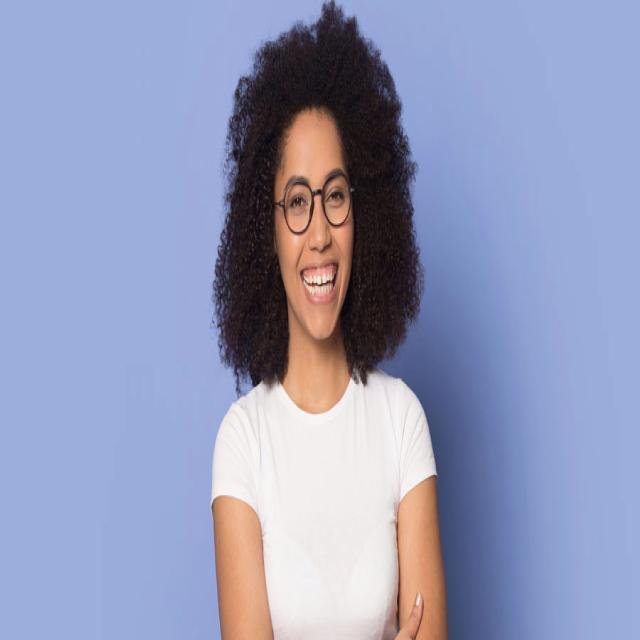adult: (211, 5, 449, 640)
